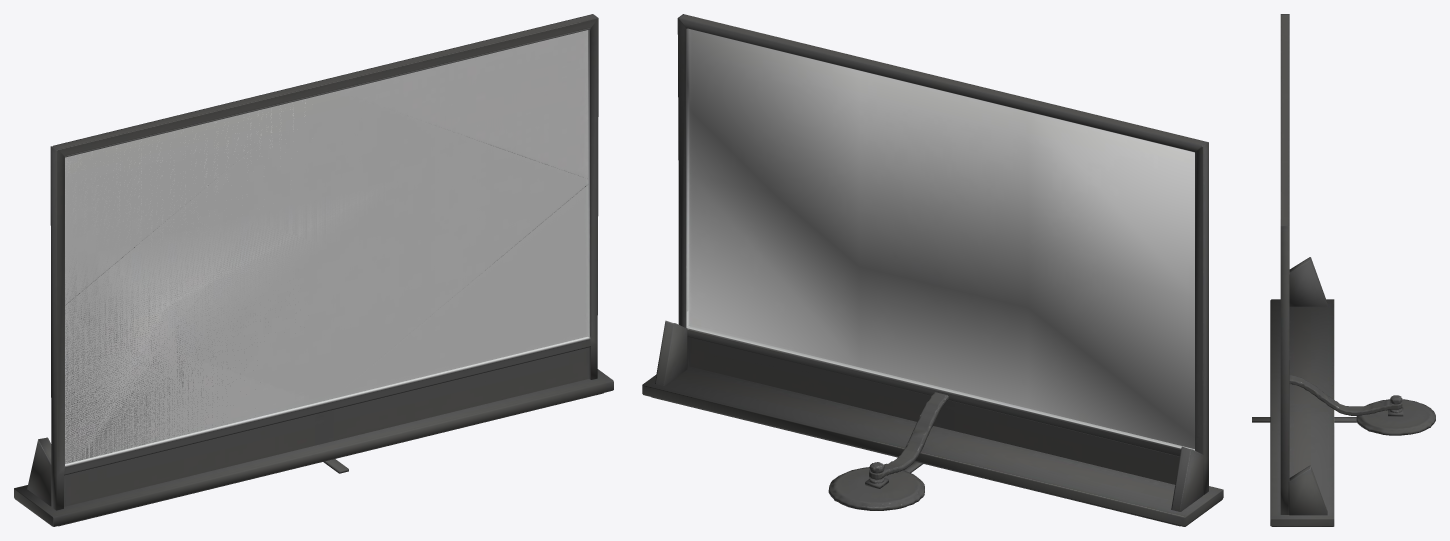
The model's file is wide-screen.glb.
3 renders of one model, left to right at view 1: azimuth 30°, elevation 25°; view 2: azimuth 150°, elevation 25°; view 3: azimuth 270°, elevation 25°, orthographic. The views are drawn at different scales.
Visible parts, largest first — view 1: Wide Screen; view 2: Wide Screen; view 3: Wide Screen.
Part boxes in pixels (x1,y1,x2,y2): Wide Screen: (14,14,613,526); Wide Screen: (642,14,1223,526); Wide Screen: (1252,14,1435,526).
Size of the model in its own units: 0.998 by 0.6387 by 0.3535.
Materials: 1 (1 with a texture image).
